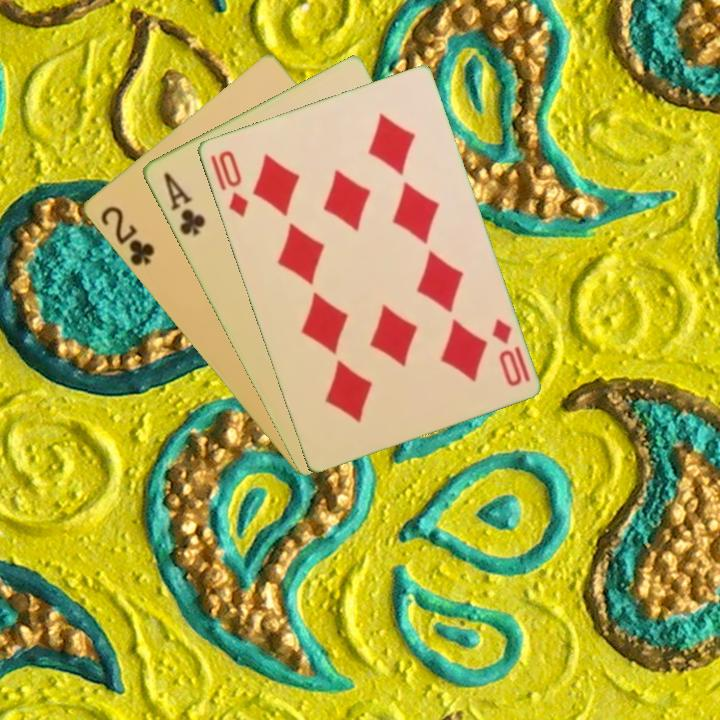10d: (488, 315, 533, 390), (214, 146, 251, 220)
2c: (96, 202, 158, 269)
Ac: (159, 168, 208, 239)
